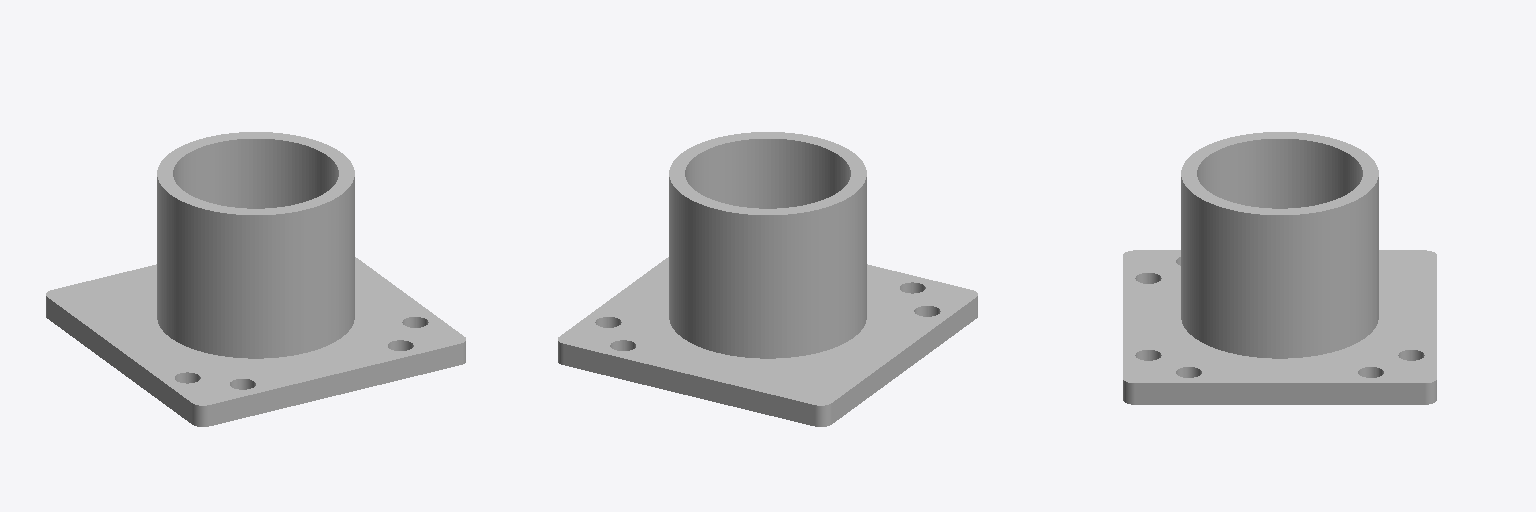
The model's file is V5_Flashlight Mount V1.obj.
The picture shows the model from 3 angles: view 1: azimuth 30°, elevation 25°; view 2: azimuth 150°, elevation 25°; view 3: azimuth 270°, elevation 25°; orthographic projection.
Visible parts, largest first — view 1: Solid1:48; view 2: Solid1:48; view 3: Solid1:48.
Part boxes in pixels (x1,y1,x2,y2): Solid1:48: (46, 132, 465, 426); Solid1:48: (558, 132, 977, 426); Solid1:48: (1123, 132, 1436, 404).
Bounding box in the file's own units: 49.75 × 28.75 × 49.75.